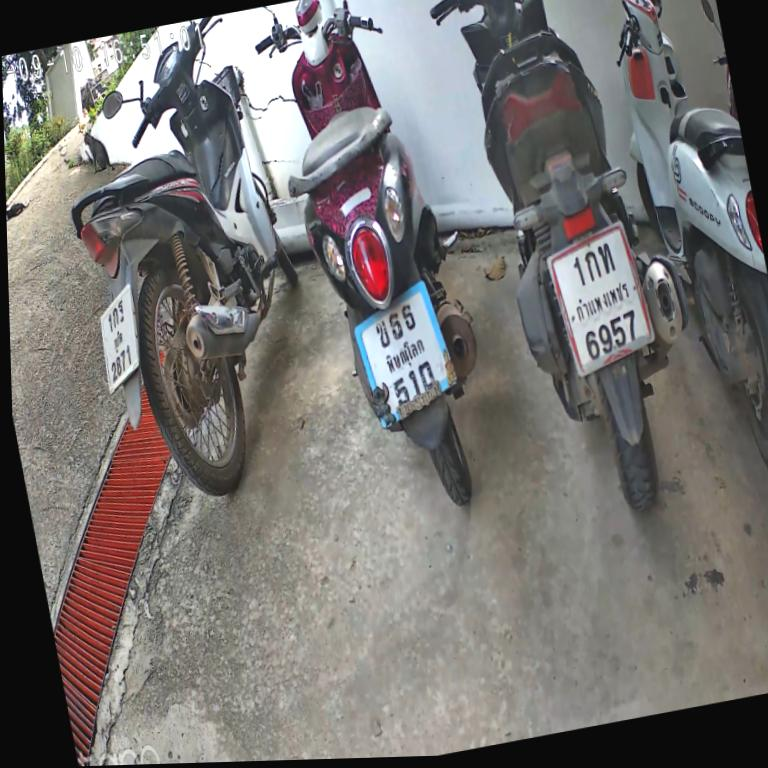license plate: (334, 265, 472, 443), (535, 213, 668, 394), (86, 281, 155, 404)
